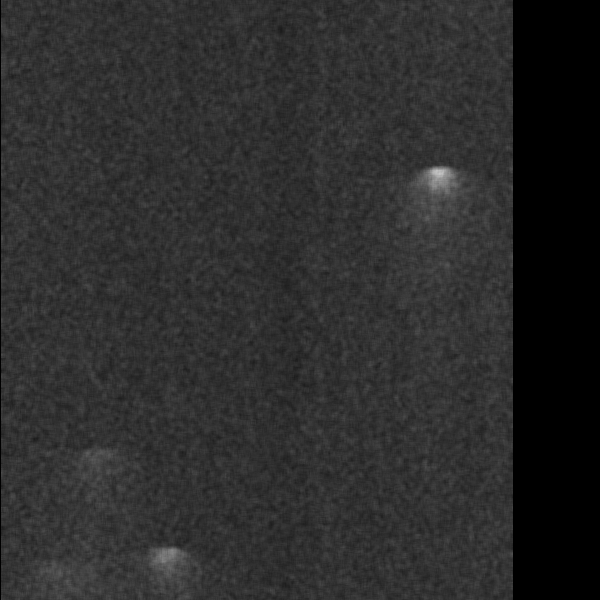spark: (257, 469, 293, 558), (340, 373, 355, 407)
